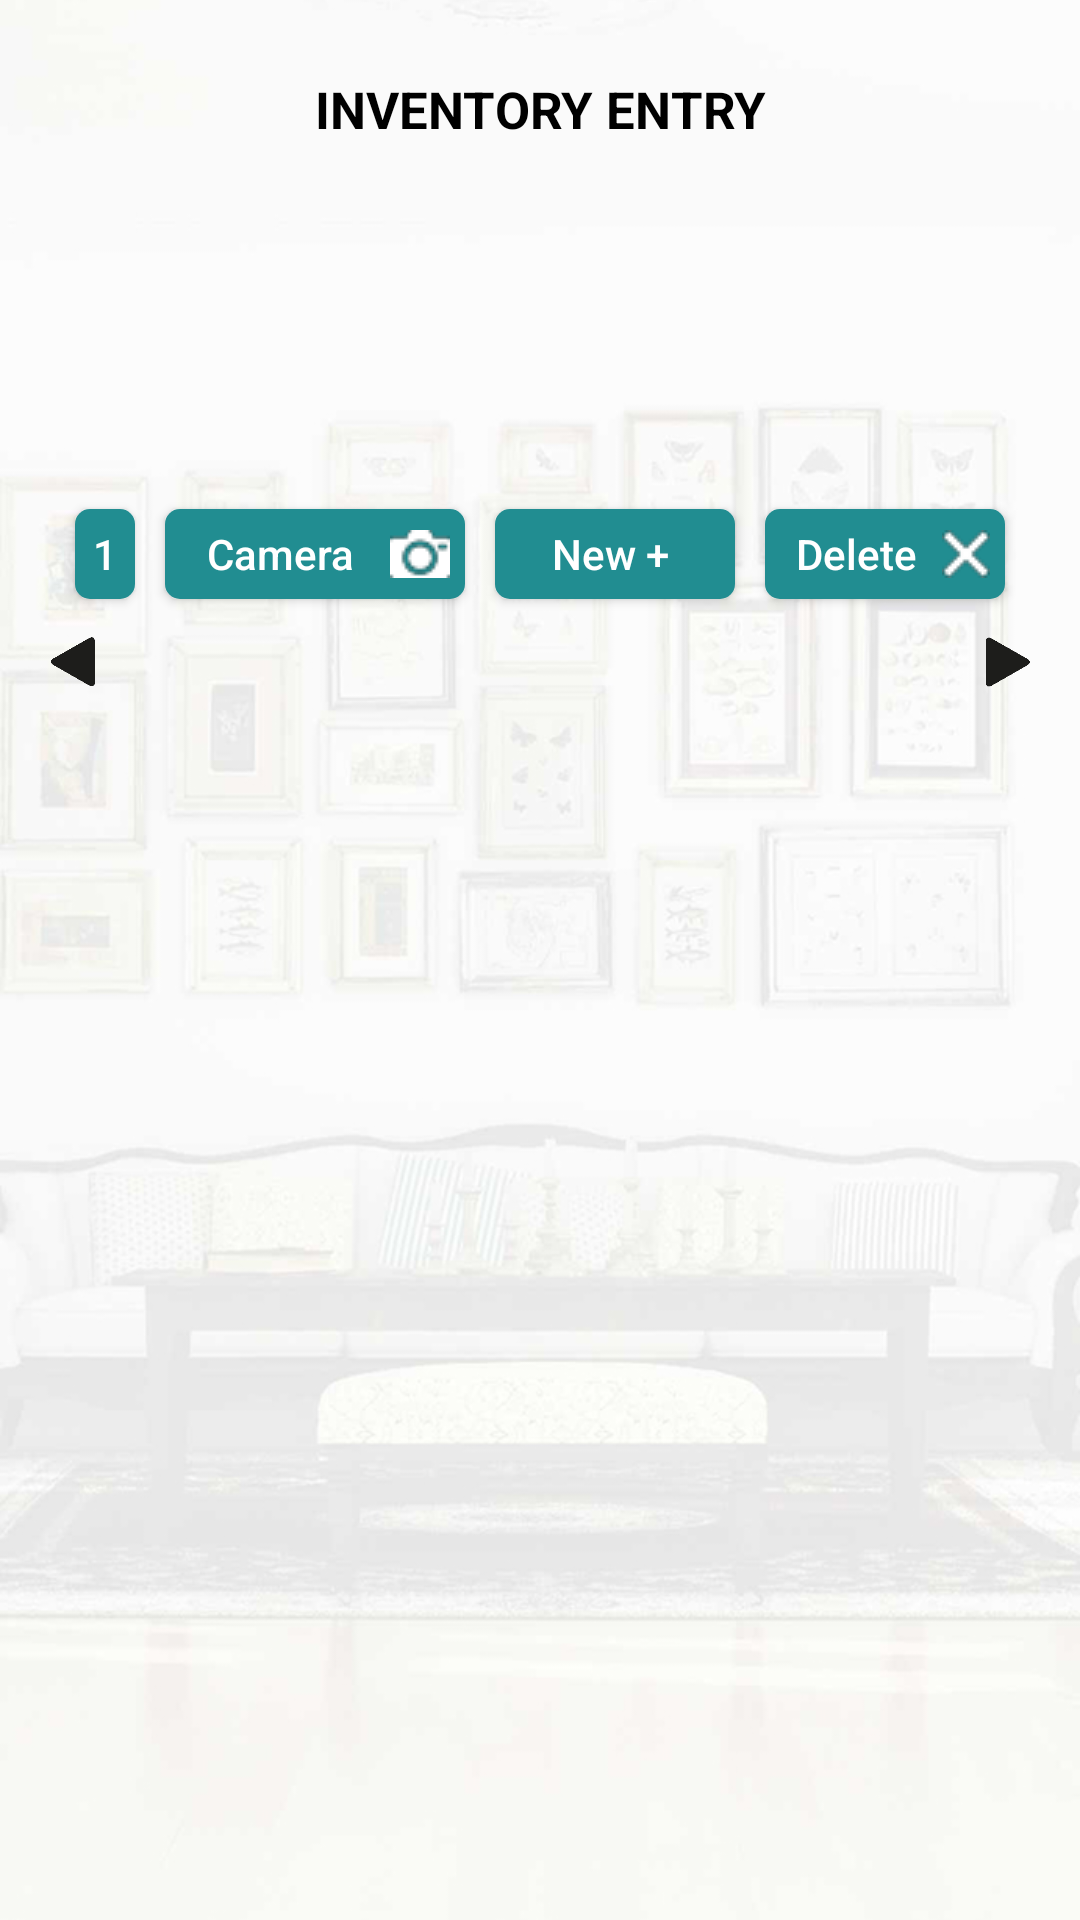

Icons on this 1080w x 1920h Android screen, each with the point to tap as [x,y]:
left arrow: [73,661]
right arrow: [1003,662]
